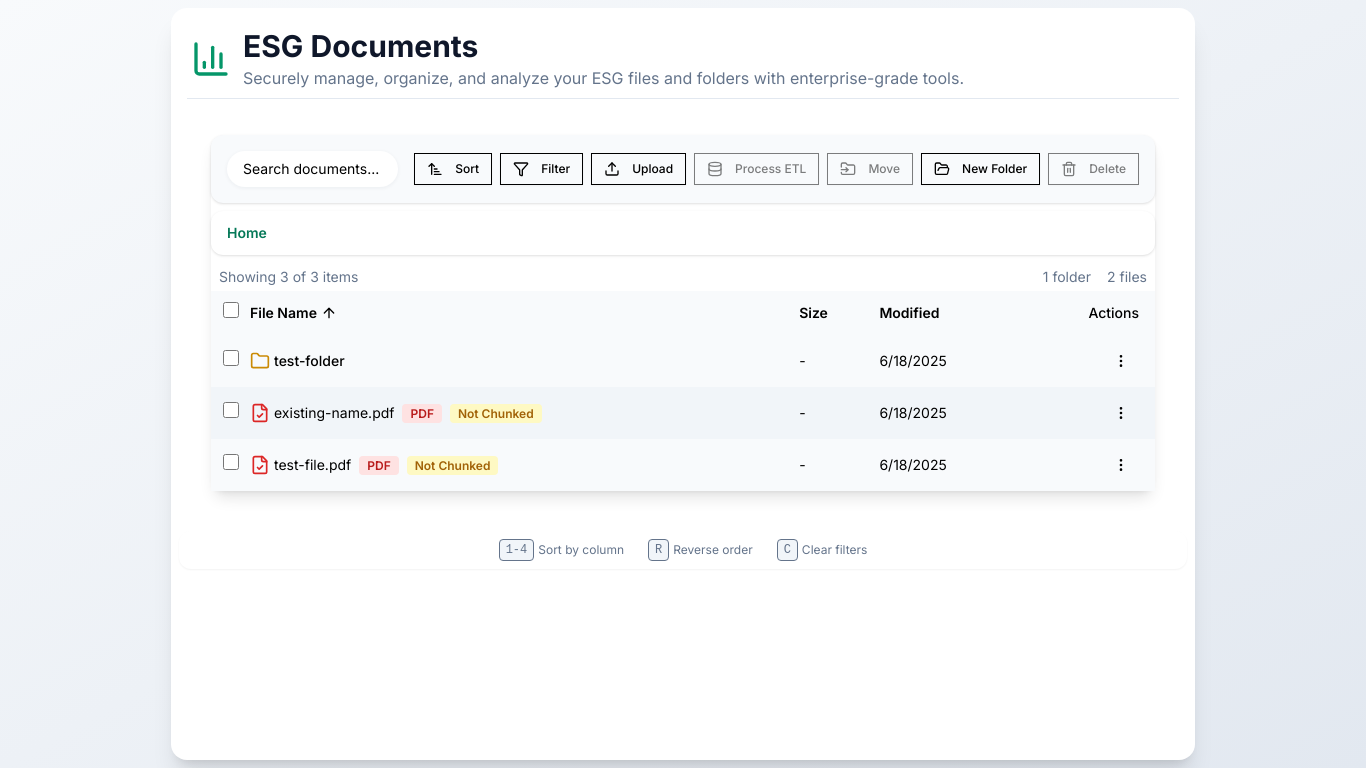
Rename File/Folder Functionality › UC-REN-002: renames a folder successfully
The width and height of the screenshot is (1366, 768).
Expected: the text "test-folder" is shown, 274,350 -> 345,370
Click the button named "more-actions" in the row of "test-folder" at (1121, 360), box 1103,342 -> 1139,378
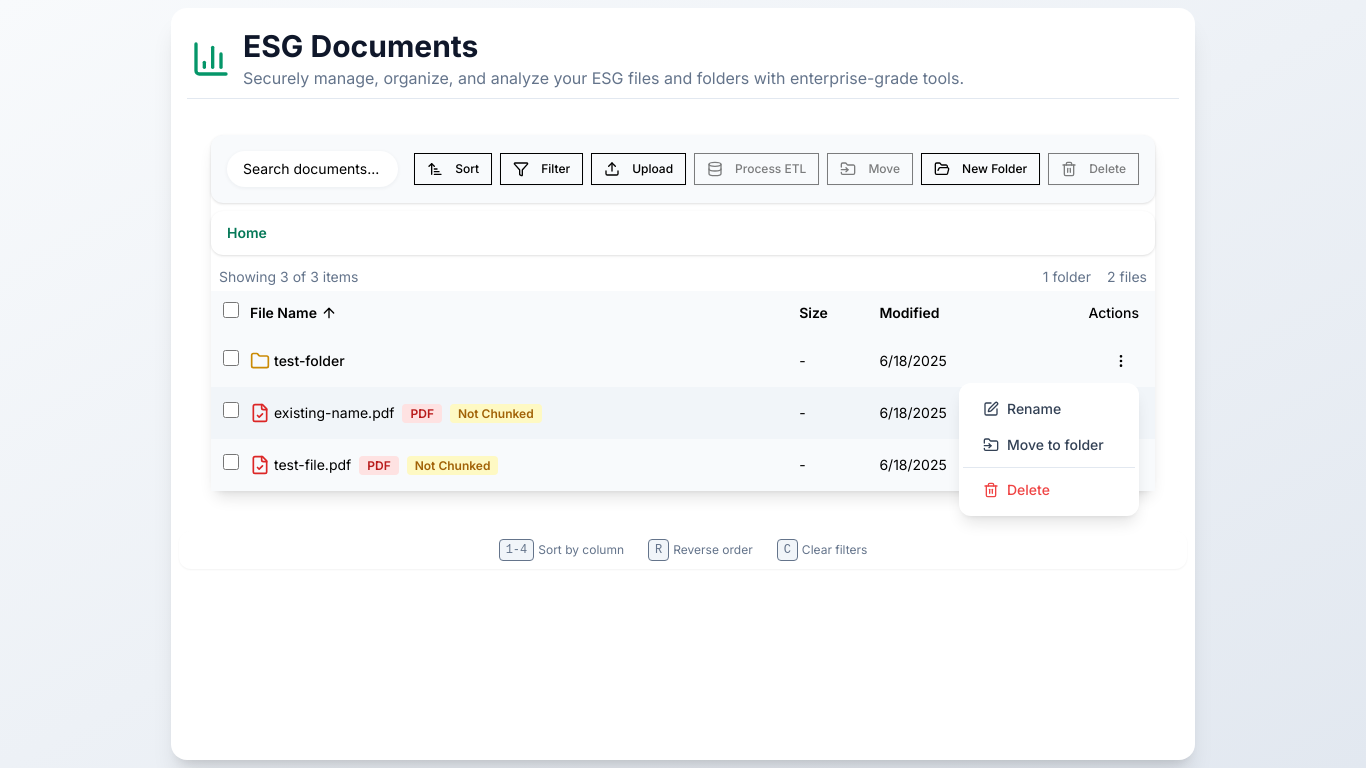
Expected: the menu item "Rename" is shown
Expected: the menu item "Rename" is enabled
Click the menu item "Rename" at (1022, 408), box 983,400 -> 1061,417
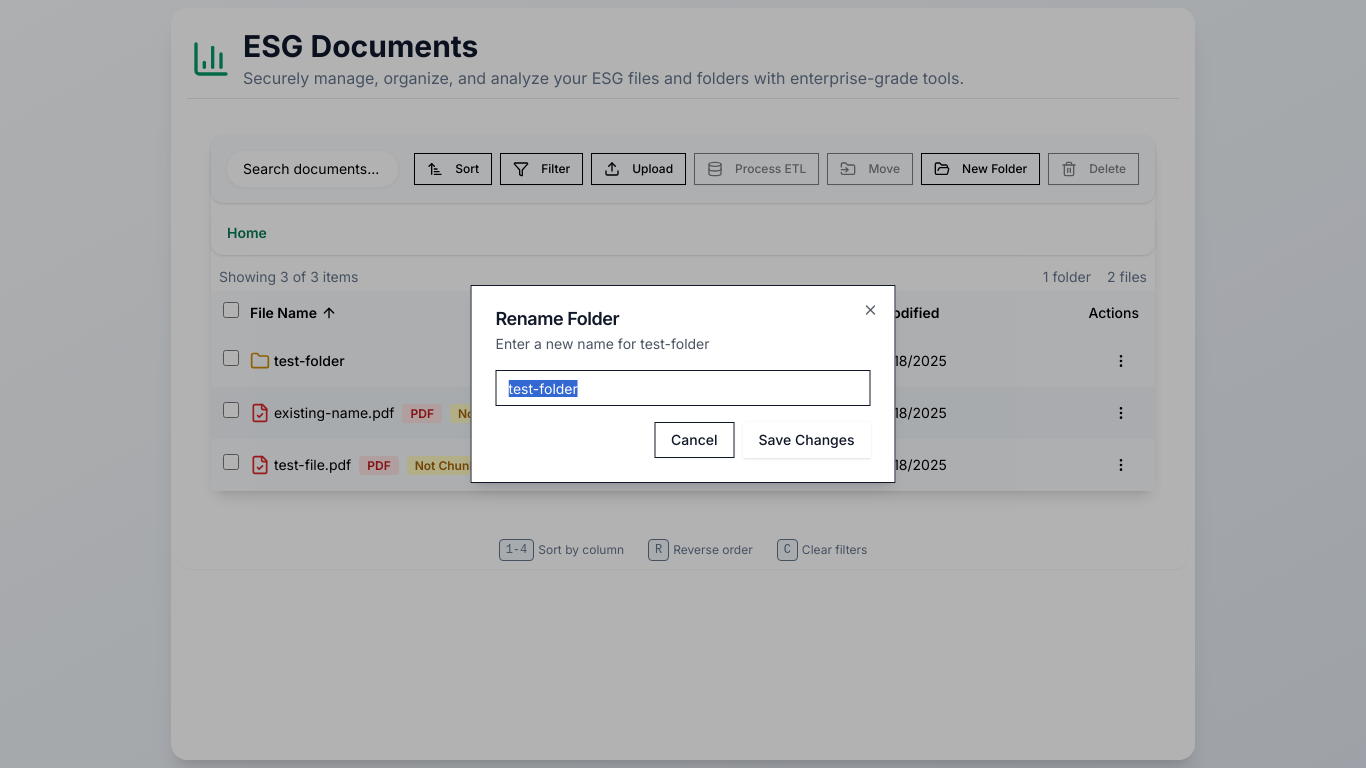
Replace the text in the field showing "test-folder" with "renamed-folder" at (683, 388), box 496,370 -> 870,406
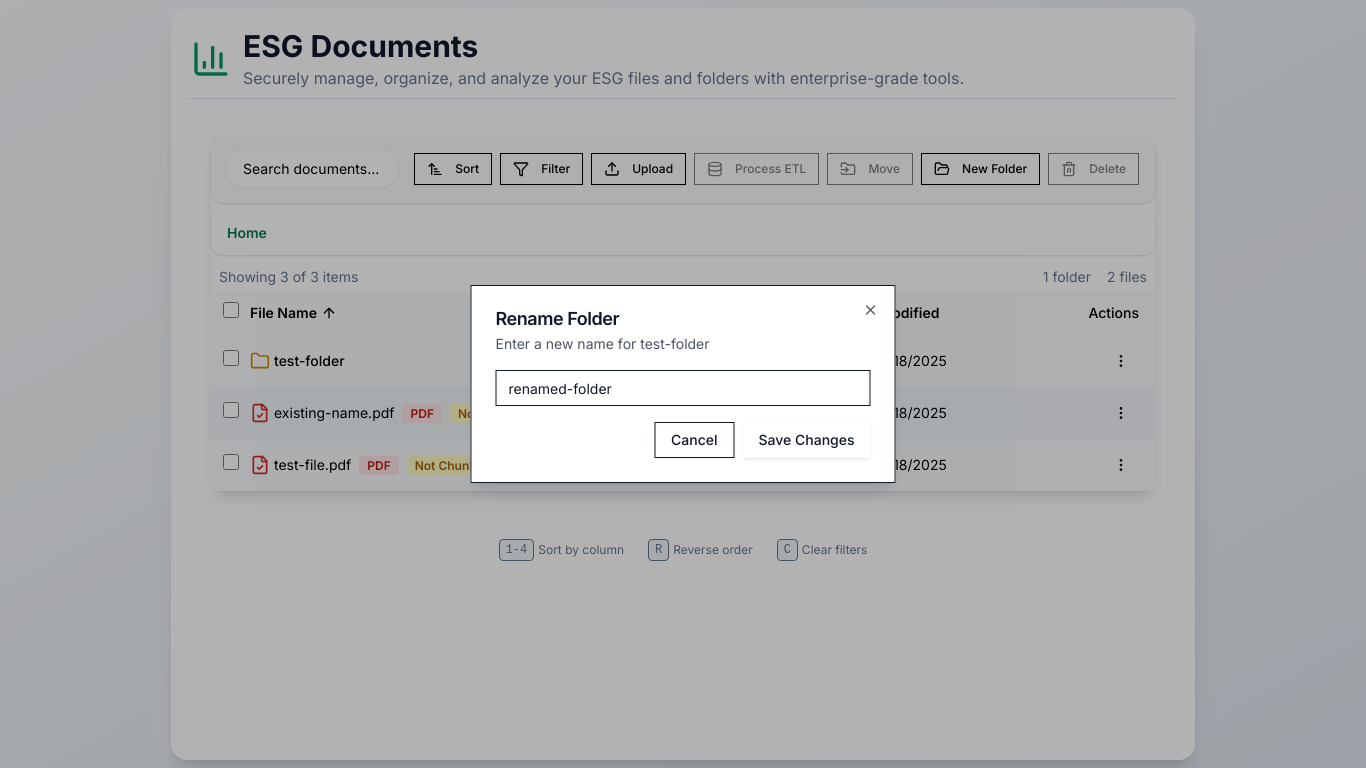
Click the button "Save Changes" at (806, 440), box 742,422 -> 870,458
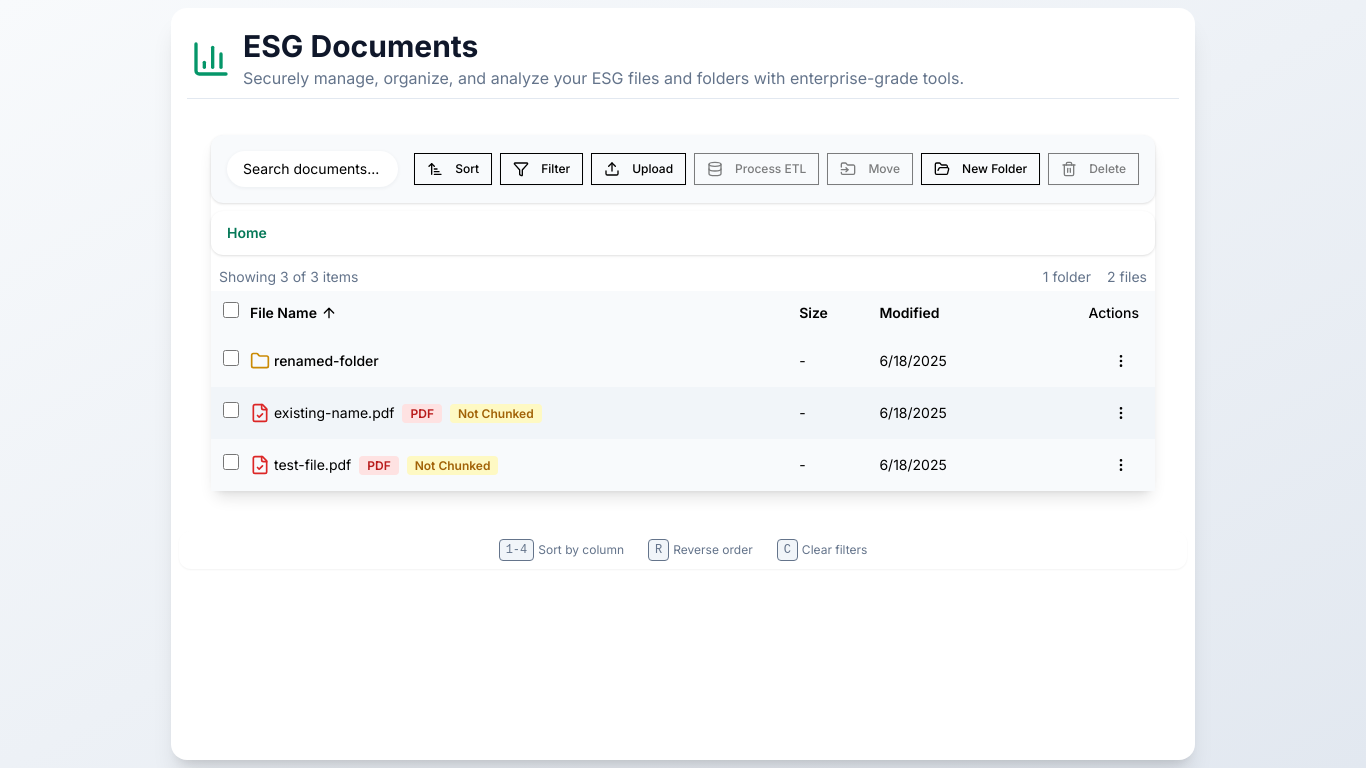
Expected: the text "renamed-folder" is shown, 274,350 -> 379,370
